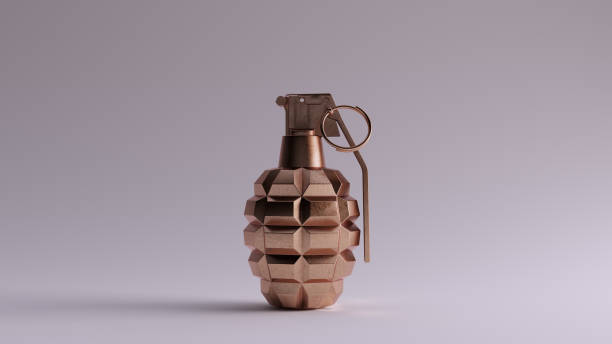e1: (242, 90, 379, 315)
